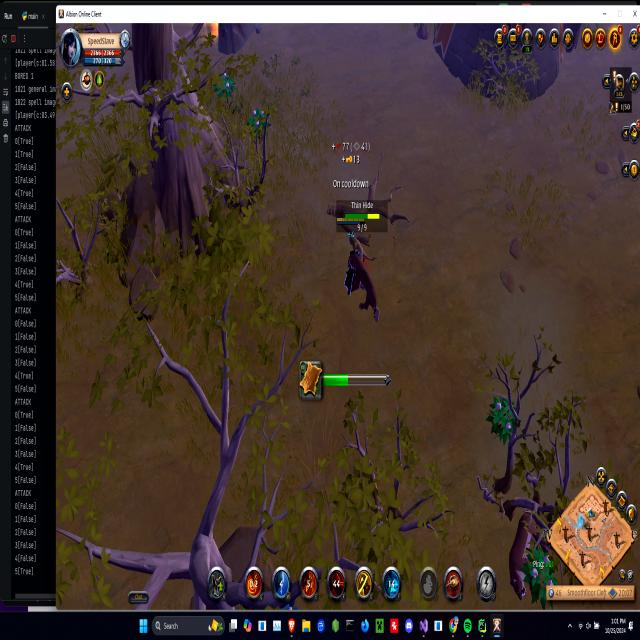hide: (522, 538, 555, 606), (488, 391, 517, 446), (213, 68, 236, 106), (247, 104, 270, 141)
mob: (506, 504, 548, 603)
ore: (346, 247, 388, 325)
red: (336, 210, 365, 300)
